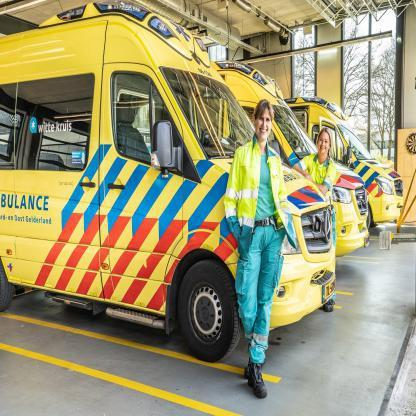Ambulance - v1 Ambulance last generate: (0, 7, 336, 368), (219, 55, 378, 256), (293, 92, 404, 220)
